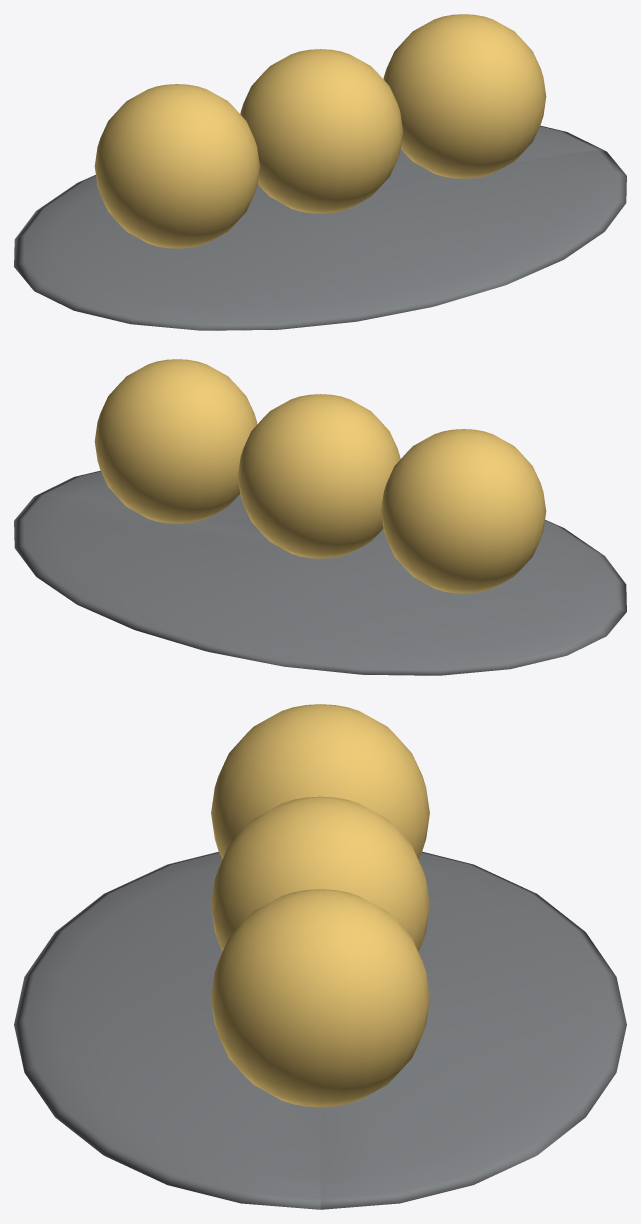
The model's file is fruto_ouro.glb.
3 views of the same model, one above another, from view 1: azimuth 30°, elevation 25°; view 2: azimuth 150°, elevation 25°; view 3: azimuth 270°, elevation 25° (orthographic). The views are drawn at different scales.
Parts seen in each view (by area): view 1: Salva, Fruto simbólico, Fruto simbólico.001, Fruto simbólico.002; view 2: Salva, Fruto simbólico, Fruto simbólico.001, Fruto simbólico.002; view 3: Salva, Fruto simbólico.002, Fruto simbólico, Fruto simbólico.001.
Part boxes in pixels (x1,y1,x2,y2): Salva: [14, 125, 626, 330]; Fruto simbólico: [94, 84, 259, 248]; Fruto simbólico.001: [240, 49, 402, 213]; Fruto simbólico.002: [383, 14, 546, 178]; Salva: [14, 470, 626, 675]; Fruto simbólico: [381, 429, 546, 593]; Fruto simbólico.001: [238, 394, 400, 558]; Fruto simbólico.002: [94, 359, 257, 523]; Salva: [14, 851, 626, 1209]; Fruto simbólico.002: [211, 889, 429, 1107]; Fruto simbólico: [211, 704, 429, 858]; Fruto simbólico.001: [211, 796, 429, 951].
Bounding box in the file's own units: 2 × 0.6 × 1.4.
